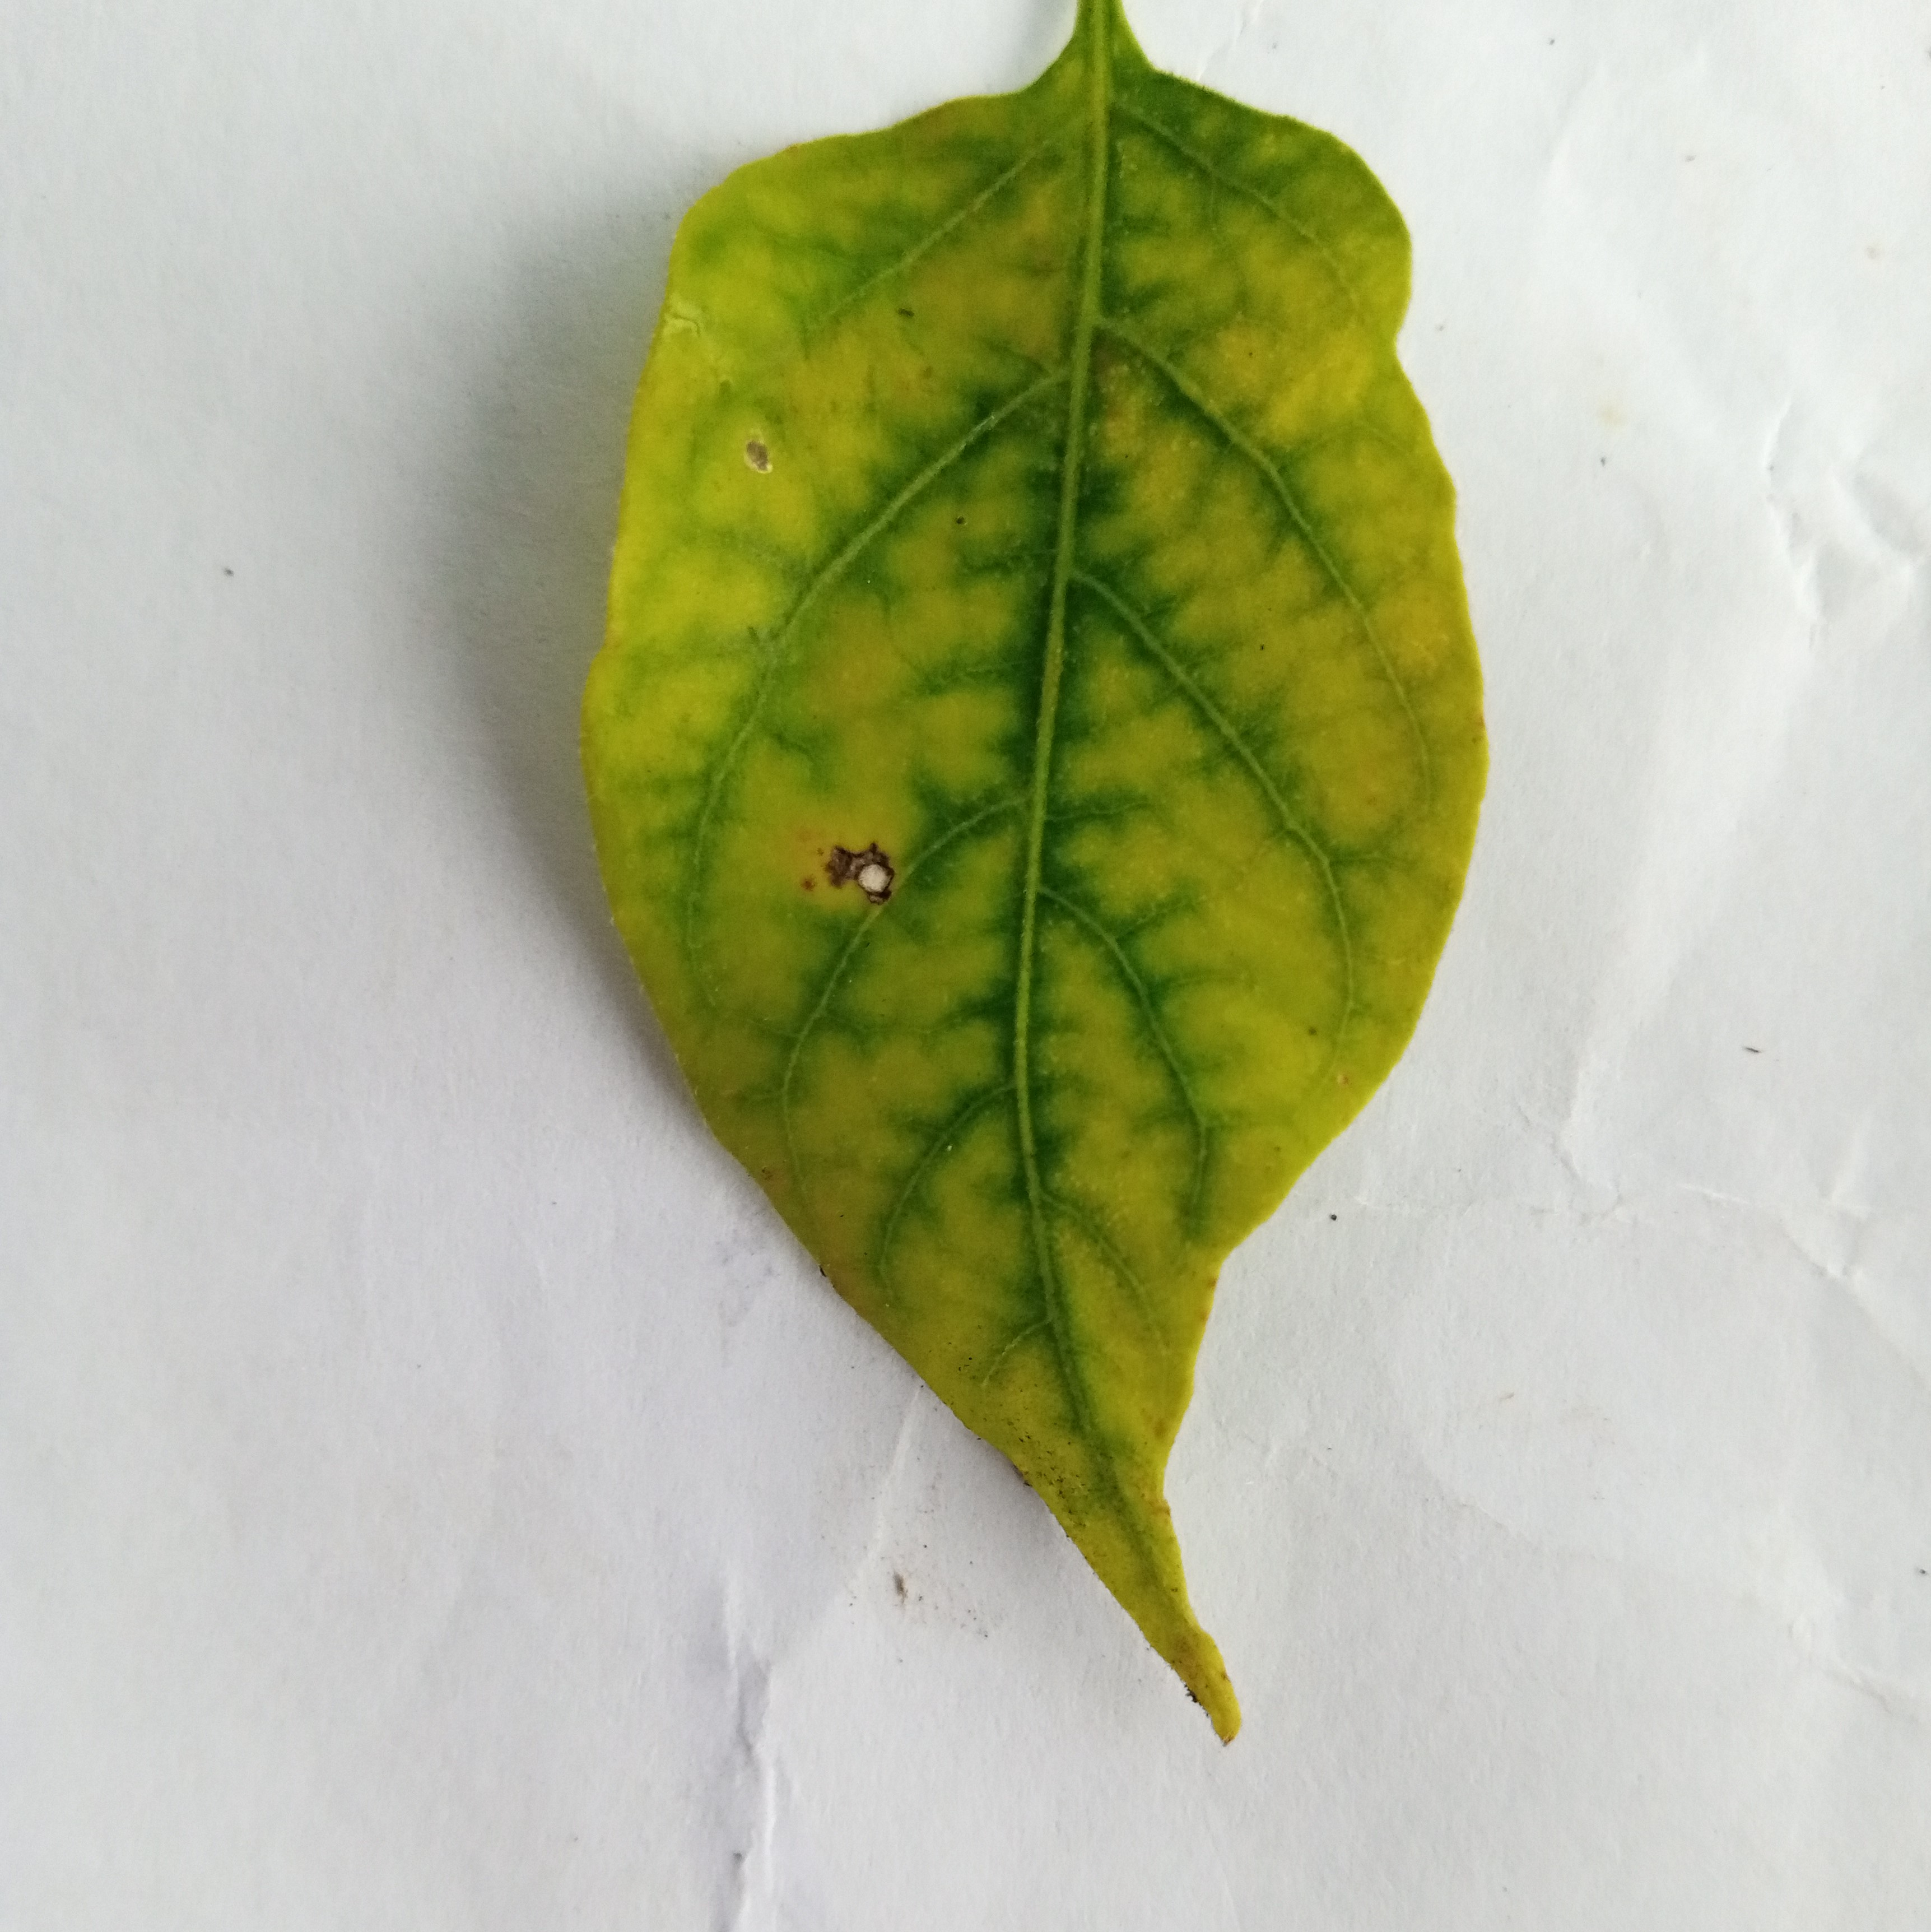Leaf: (384, 11, 1669, 1780)
